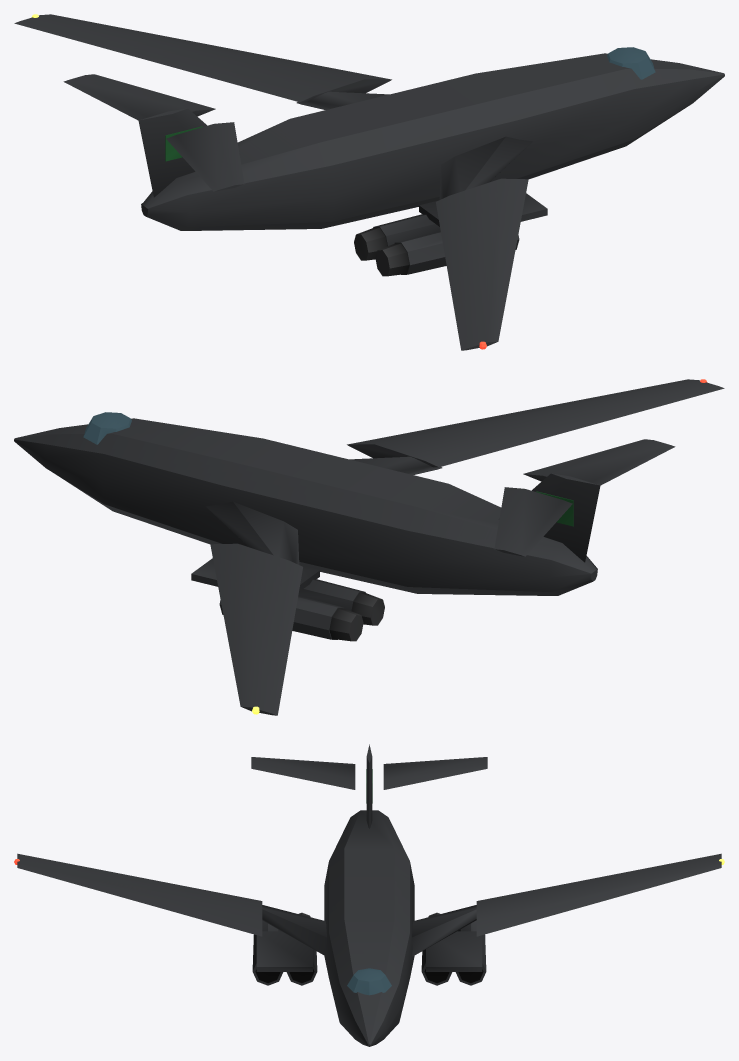
File: u_bomber_lod1.glb
3 views of the same model, one above another, from view 1: azimuth 30°, elevation 25°; view 2: azimuth 150°, elevation 25°; view 3: azimuth 270°, elevation 25° (orthographic). The views are drawn at different scales.
Parts seen in each view (by area): view 1: Bomber_LOD1_Walls, Bomber_LOD1_Details; view 2: Bomber_LOD1_Walls, Bomber_LOD1_Details; view 3: Bomber_LOD1_Walls, Bomber_LOD1_Details.
Boxes of the visible parts, <box> form: Bomber_LOD1_Walls: <box>14,14,724,350</box>; Bomber_LOD1_Details: <box>31,14,655,349</box>; Bomber_LOD1_Walls: <box>14,379,724,715</box>; Bomber_LOD1_Details: <box>83,379,707,714</box>; Bomber_LOD1_Walls: <box>17,744,721,1046</box>; Bomber_LOD1_Details: <box>14,769,724,995</box>.
Bounding box in the file's own units: 1.89 × 0.485 × 2.52.
